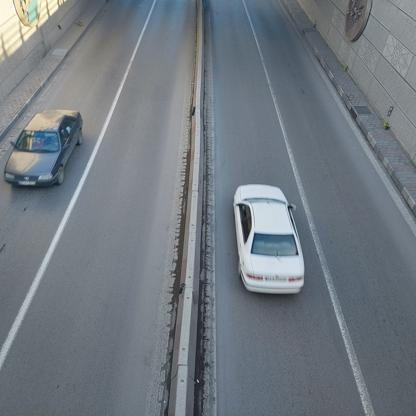Car: (229, 186, 304, 298), (6, 110, 82, 188)
